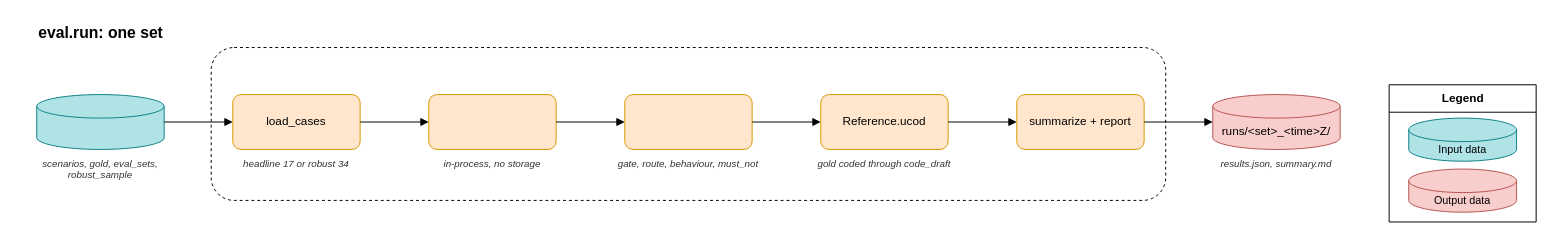
The diagram is 1553 pixels wide and 239 high, and some of its shapes have lost their labels. The shapes that lost their labels are listed below. From the top down, each one's box as (x1, y1, x2, y2) in pixels, then its label:
(36, 94, 164, 149): data/
(428, 94, 556, 149): certify_record
(624, 94, 752, 149): score
(210, 47, 1166, 200): run()
